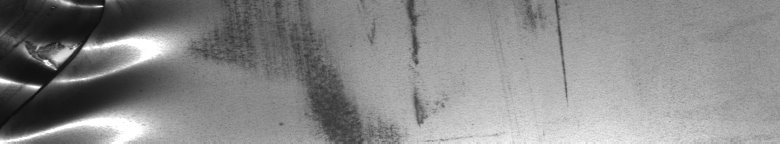ke: (64, 4, 206, 129)
